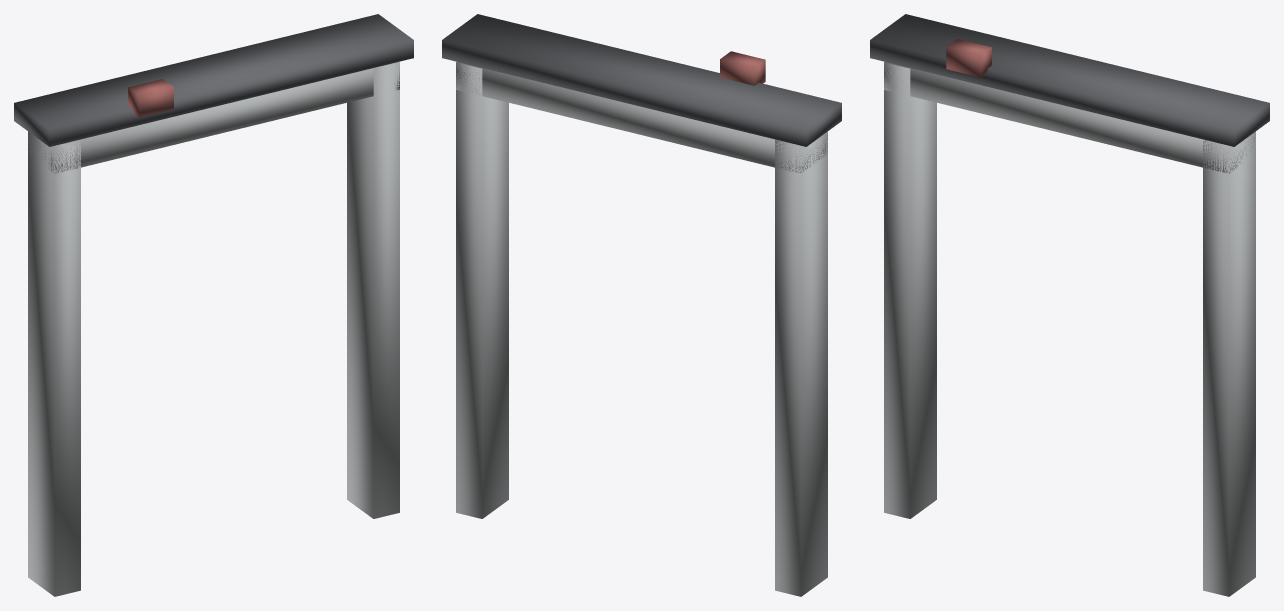
Rendered from doorway_fire_rated_w152_h210_d24.glb.
The picture shows the model from 3 angles, left to right: view 1: azimuth 30°, elevation 25°; view 2: azimuth 150°, elevation 25°; view 3: azimuth 330°, elevation 25°; orthographic projection.
Parts seen in each view (by area): view 1: world; view 2: world; view 3: world.
Boxes of the visible parts, x1=… form: world: x1=14, y1=14, x2=413, y2=596; world: x1=442, y1=14, x2=841, y2=596; world: x1=870, y1=14, x2=1269, y2=596.
Size of the model in its own units: 1.89 by 2.44 by 0.38.
